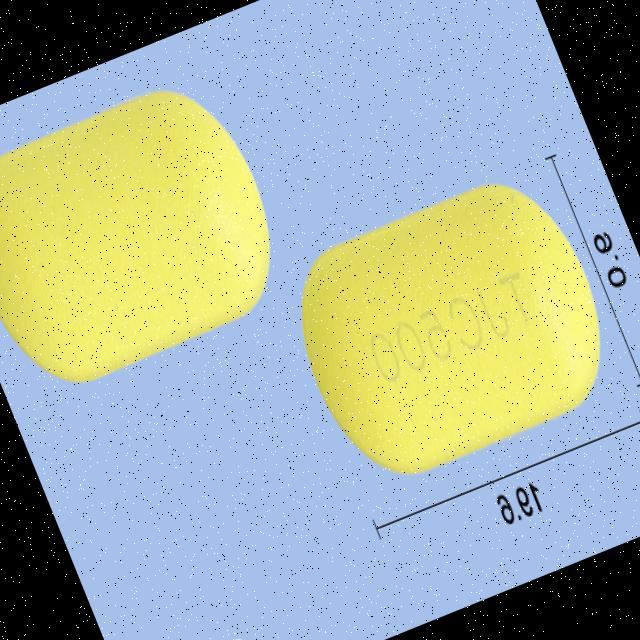Clarix: (269, 156, 636, 502), (0, 64, 299, 405)
